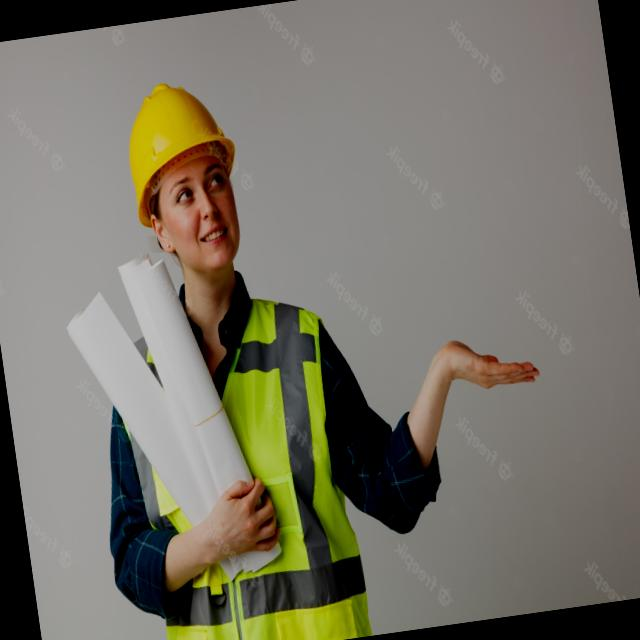helmet: (107, 68, 243, 240)
no-goggles: (154, 151, 242, 231)
vest: (111, 282, 379, 640)
